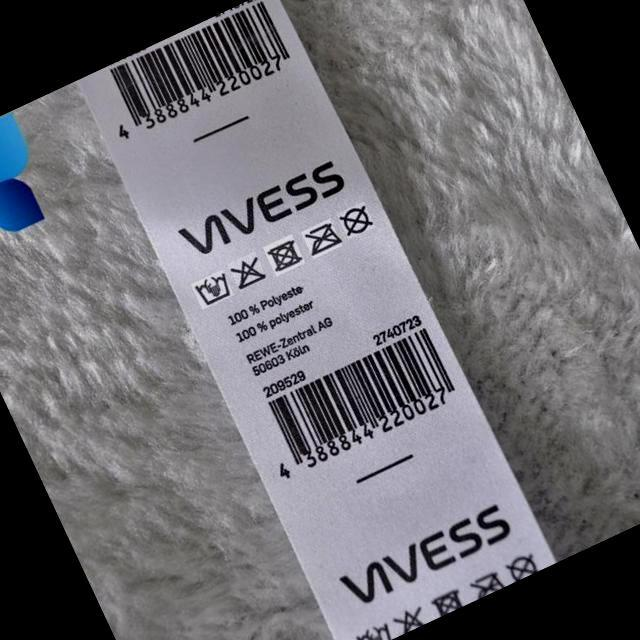DN_bleach: (234, 256, 270, 292)
DN_dry_clean: (340, 202, 373, 239)
DN_iron: (308, 221, 346, 258)
DN_tumble_dry: (269, 239, 303, 276)
hand_wash: (197, 269, 230, 306)
